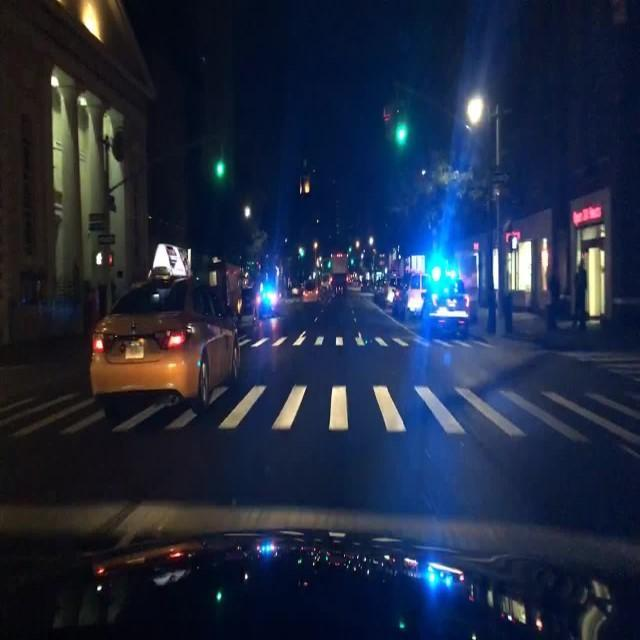normal: (60, 226, 250, 417)
